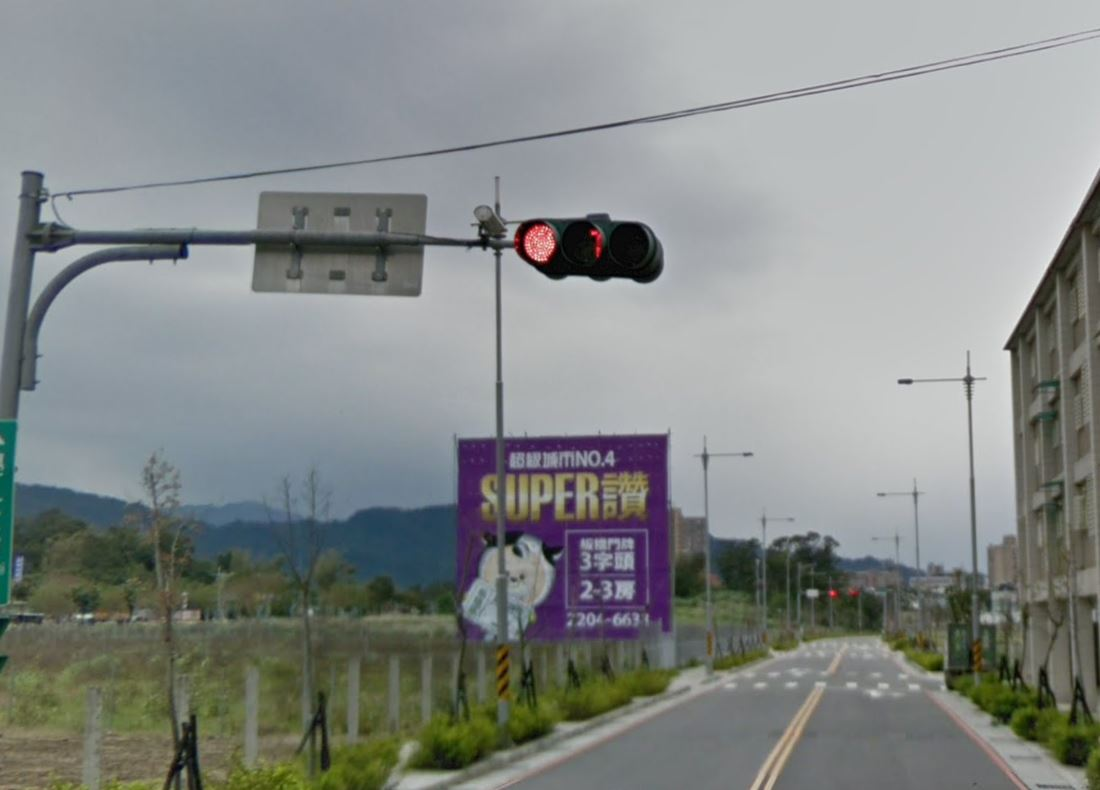Traffic_light_red: (511, 213, 668, 283)
